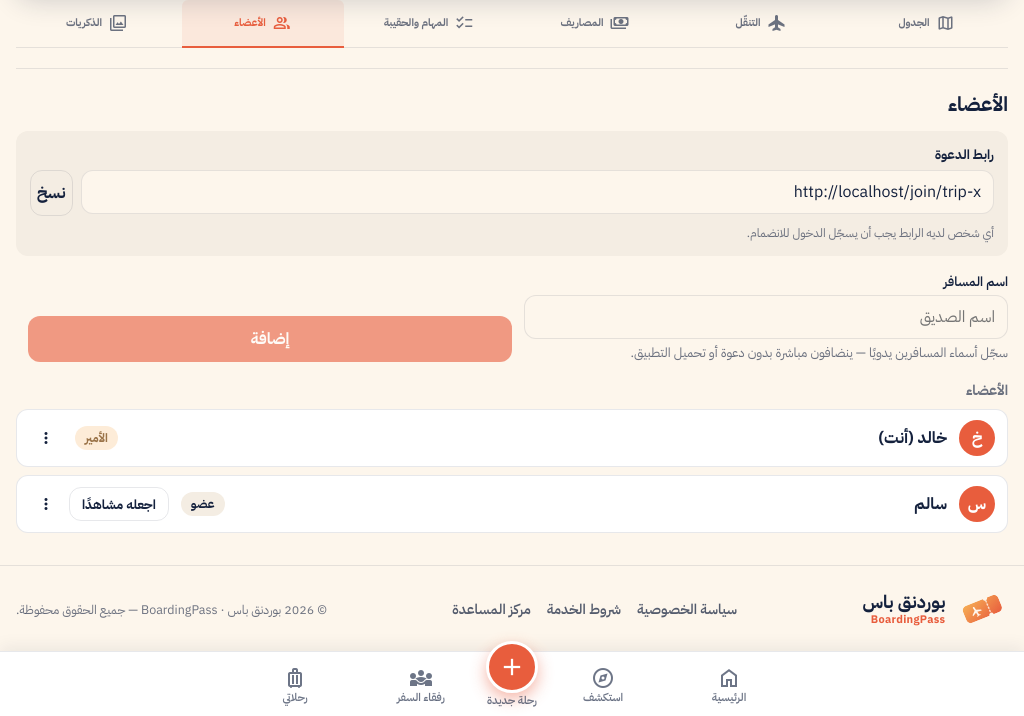
US-009 Members › transfers ownership from the ⋮ menu after an inline confirm, keeping exactly one Amir
This screenshot has width=1024, height=716.
(page scrolled)
Expected: the button "نقل الإمارة" is not shown
Expected: the button "إزالة" is not shown
Click the button named "المزيد من الخيارات" in the row of "سالم".
click(46, 504)  # box [29,487,63,521]
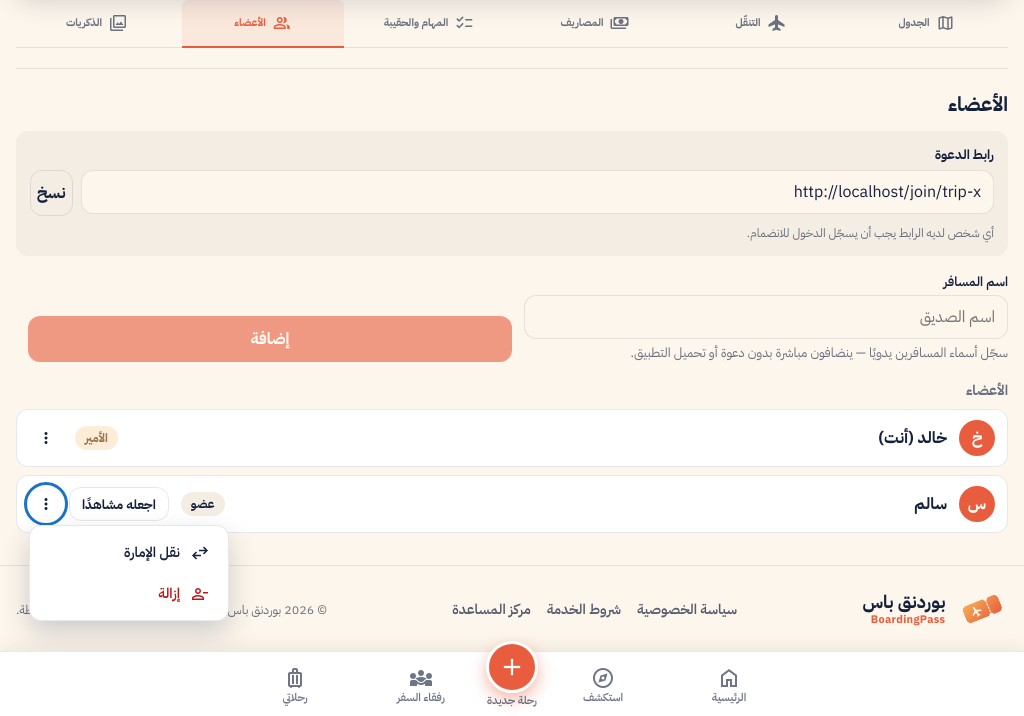
Click the menu item "نقل الإمارة".
click(129, 552)  # box [36,532,222,573]
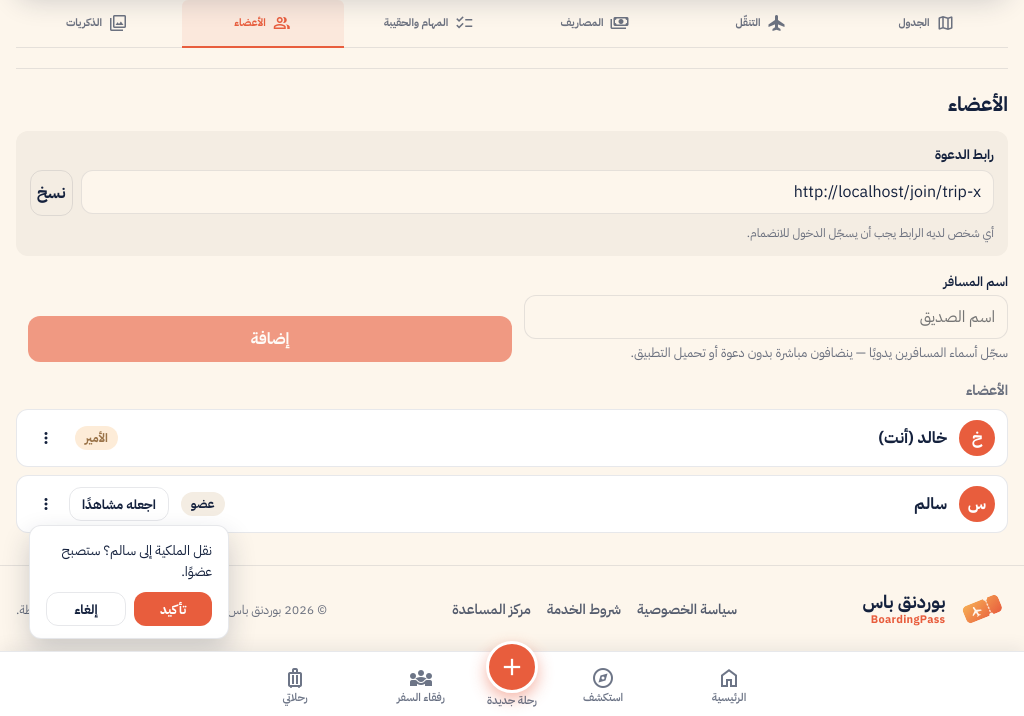
Expected: the text "نقل الملكية إلى سالم؟ ستصبح عضوًا." is shown, [46,540,212,582]
Click the button "تأكيد".
click(173, 609)  # box [134,592,212,626]
(page scrolled)
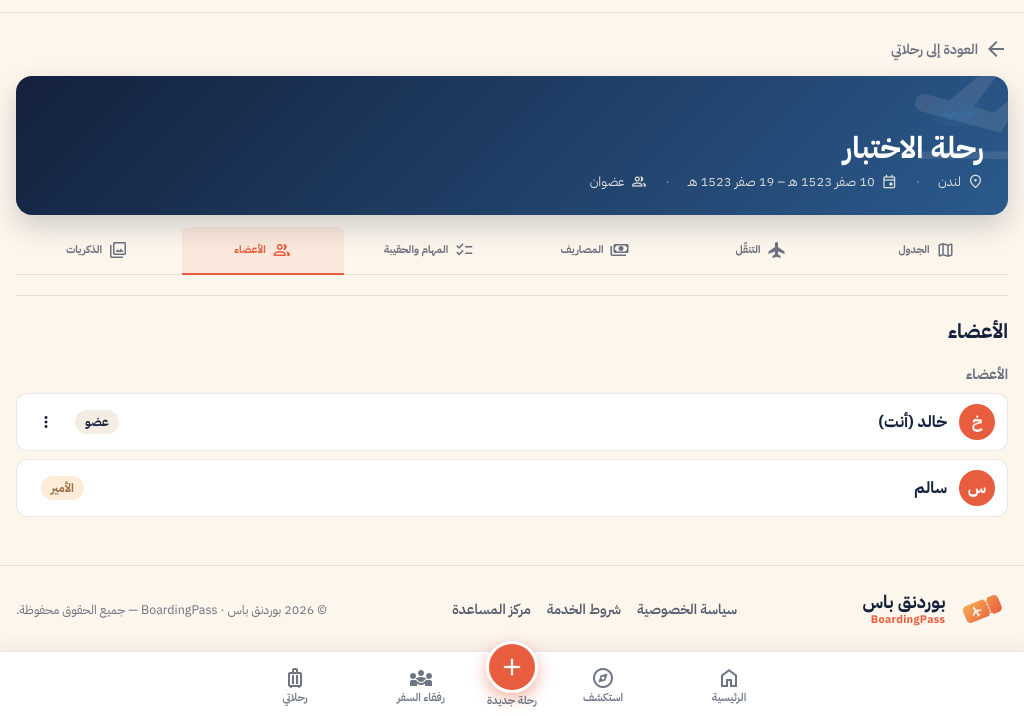
Expected: the text "الأمير" is shown once, [41,476,84,500]
Expected: the text "عضو" is shown, [75,410,119,434]
